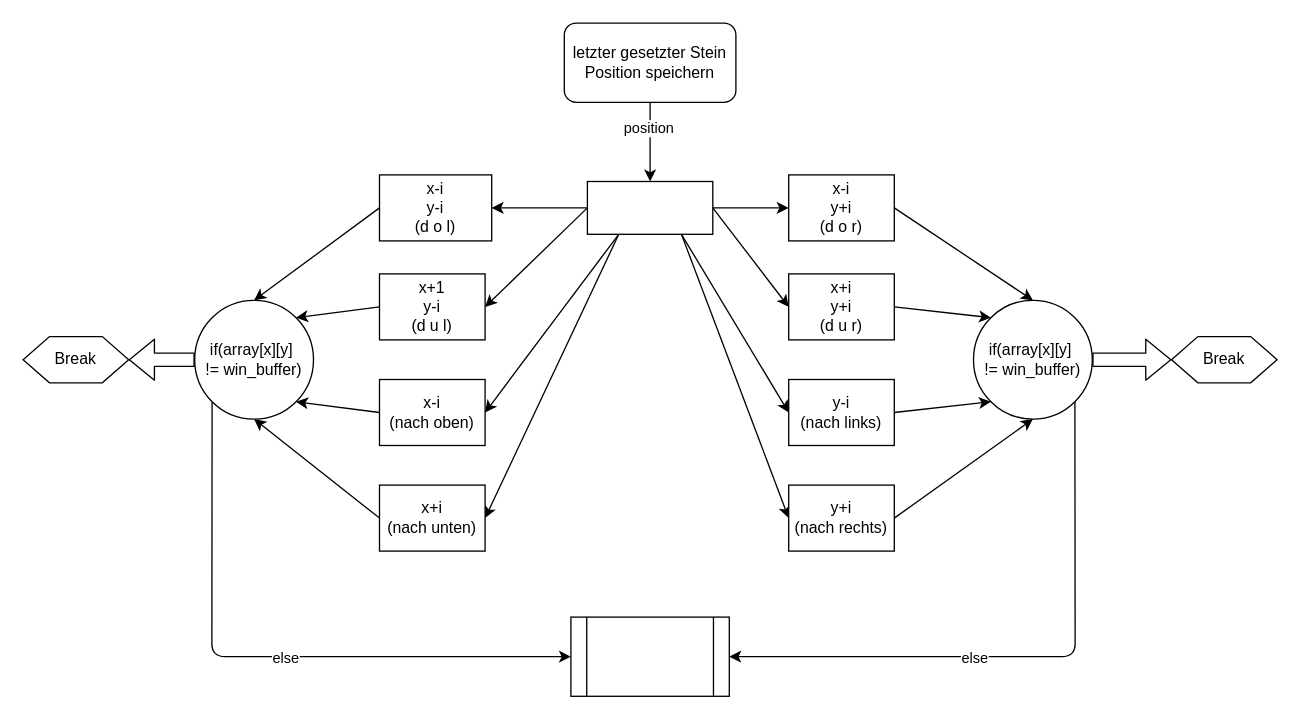
Image size: 1300x719. Some labels were removed from this diagram. The centre of each missing label's shape, as x and y in pixels:
"bool win = true" belongs at (x=649, y=656).
"for(i=1; i<4; i++)" belongs at (x=649, y=207).
